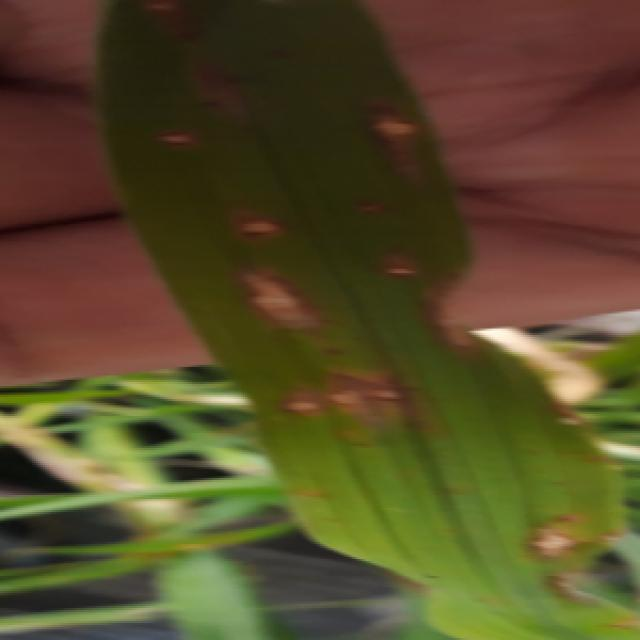Blast: (237, 273, 333, 335), (331, 382, 414, 422), (371, 104, 416, 158), (230, 208, 290, 246), (149, 124, 209, 156), (376, 252, 420, 286), (527, 522, 572, 554), (350, 190, 392, 224), (282, 390, 321, 420)
